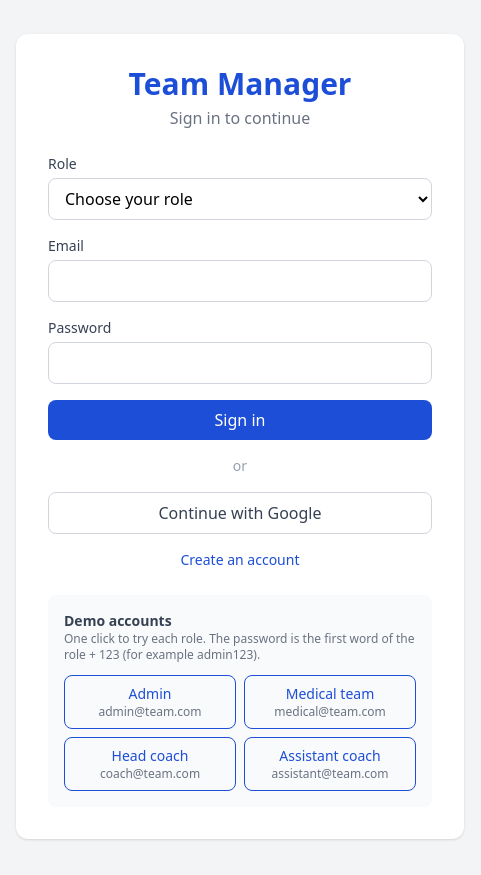
Test case: shows a friendly error
This screenshot has width=481, height=875.
Select "Admin" in the dropdown labelled "Role" at (240, 198), box 48,178 -> 432,220
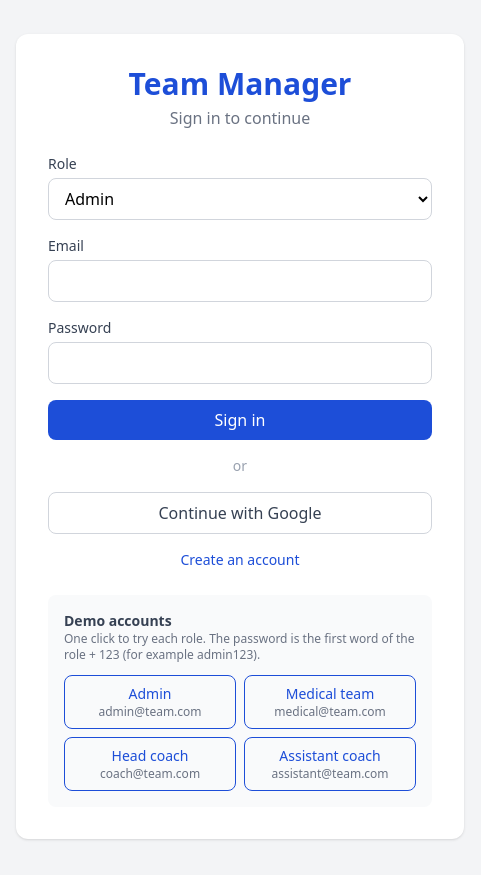
Type "a@b.com" into the field labelled "Email" at (240, 280), box 48,260 -> 432,302
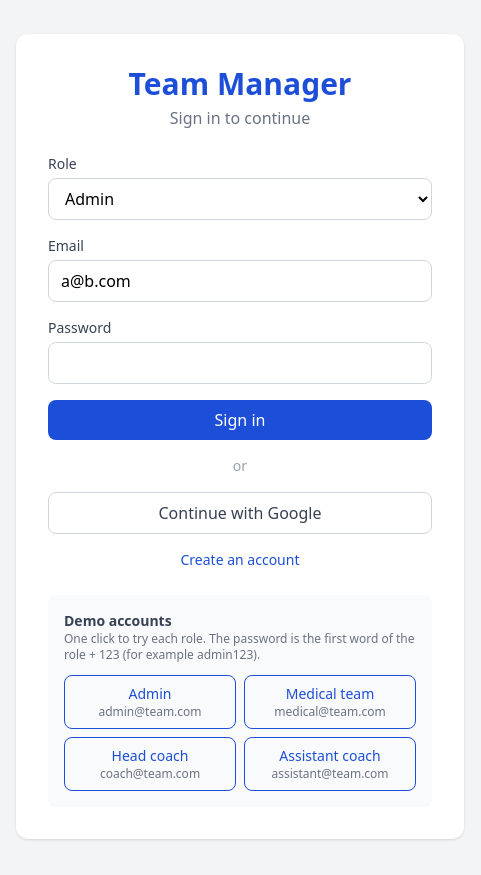
Type "secret1" into the password field labelled "Password" at (240, 362), box 48,342 -> 432,384
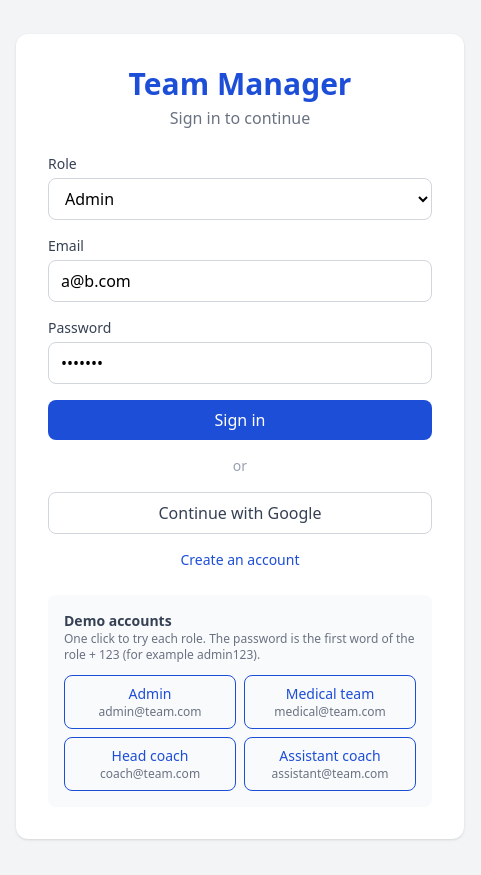
Click the button "Sign in" at (240, 420), box 48,400 -> 432,440
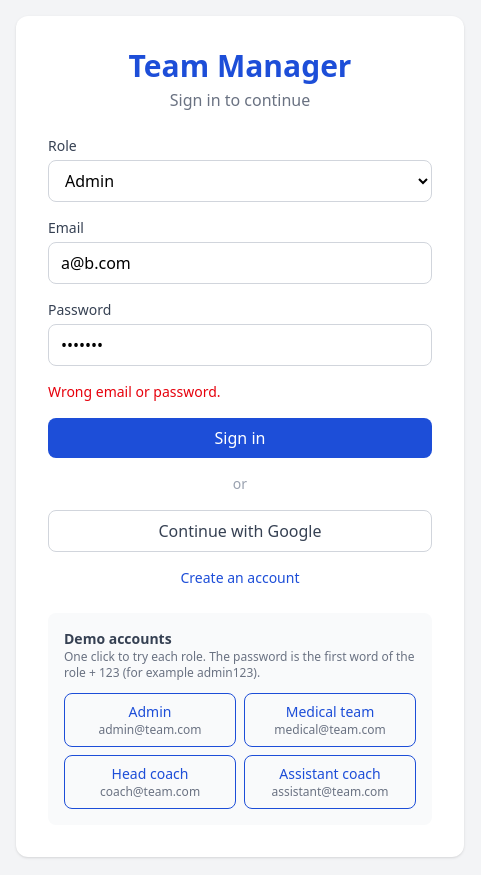
Result: the text "Wrong email or password." is shown at 48,382 -> 221,400
